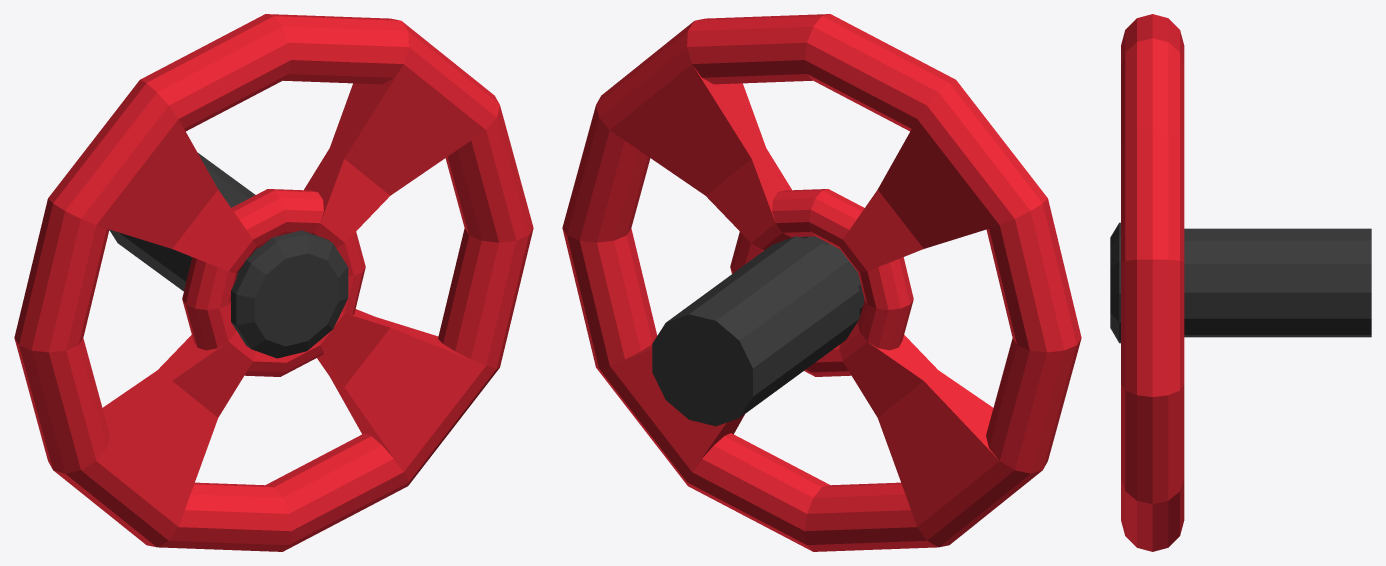
Rendered from props.fbx_valve.fbx.
3 views of the same model, side by side, from view 1: azimuth 30°, elevation 25°; view 2: azimuth 150°, elevation 25°; view 3: azimuth 270°, elevation 25° (orthographic). The views are drawn at different scales.
Parts seen in each view (by area): view 1: Torus.001, Cylinder.008; view 2: Torus.001, Cylinder.008; view 3: Torus.001, Cylinder.008.
Boxes of the visible parts, x1,y1,x2,y2 form: Torus.001: (14,14,533,551); Cylinder.008: (109,152,348,358); Torus.001: (562,14,1081,551); Cylinder.008: (652,236,864,426); Torus.001: (1121,14,1184,551); Cylinder.008: (1110,222,1371,343).
Size of the model in its own units: 0.7264 by 0.7264 by 0.3514.
